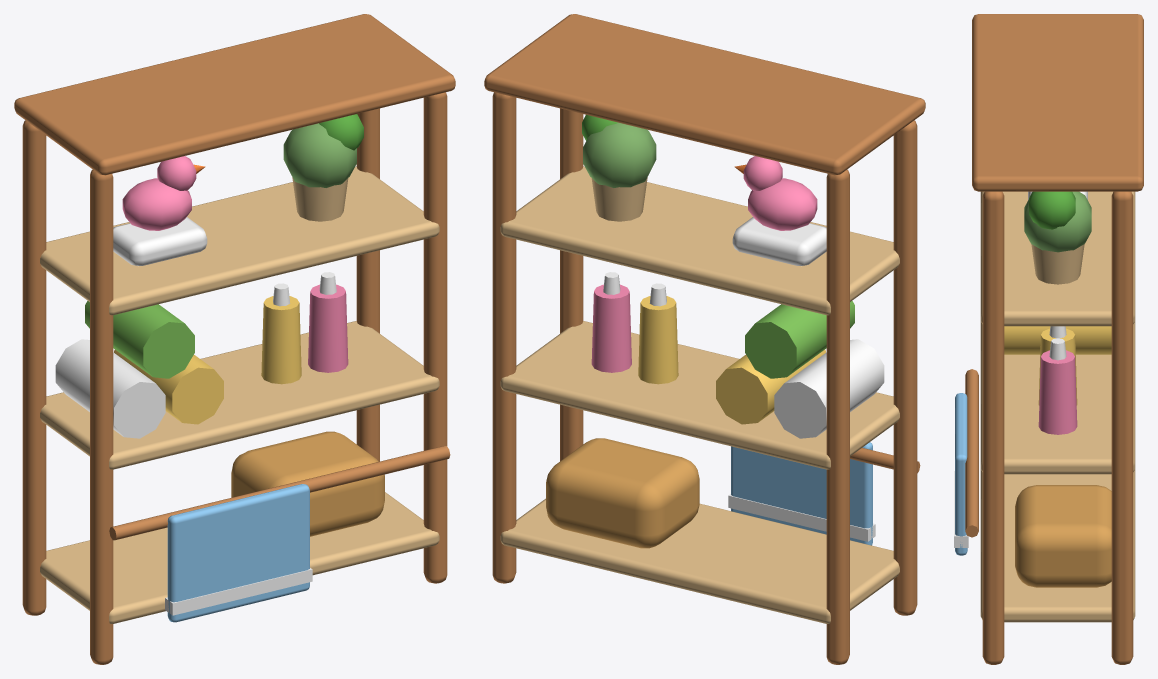
Rendered from bathshelf-ladder.glb.
3 views of the same model, side by side, from view 1: azimuth 30°, elevation 25°; view 2: azimuth 150°, elevation 25°; view 3: azimuth 270°, elevation 25° (orthographic). The views are drawn at different scales.
Size of the model in its own units: 0.92 by 1.26 by 0.442.
